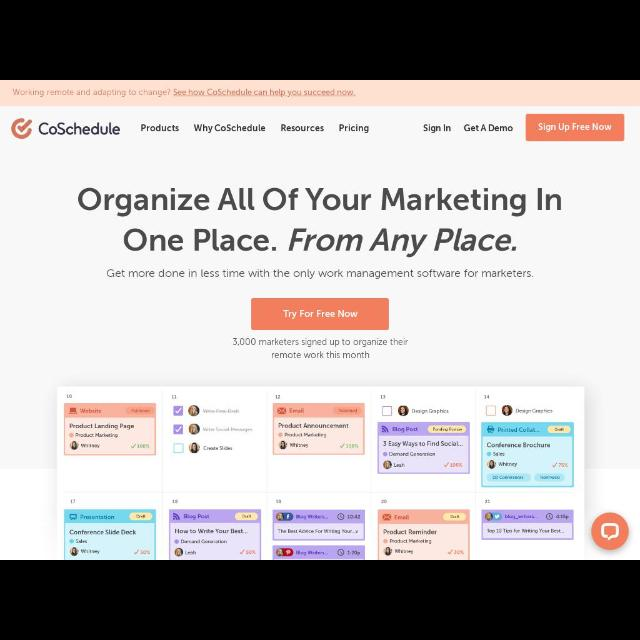button: (590, 514, 628, 550)
icon: (601, 519, 619, 545)
image: (60, 388, 584, 556), (8, 117, 122, 139)
text: (72, 185, 560, 215), (121, 220, 524, 253), (104, 270, 532, 280), (13, 87, 361, 99), (232, 338, 408, 348), (269, 351, 373, 359), (192, 125, 266, 134), (138, 122, 180, 134), (278, 123, 326, 133), (464, 125, 514, 133), (420, 123, 454, 133), (338, 124, 368, 132)
textbutton: (250, 298, 388, 330), (530, 114, 624, 140)
toolbar: (2, 108, 638, 146)
